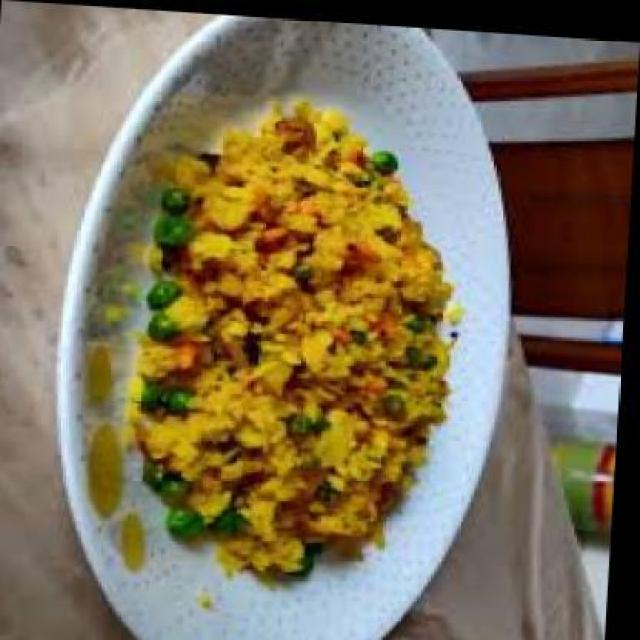poha: (123, 88, 475, 588)
